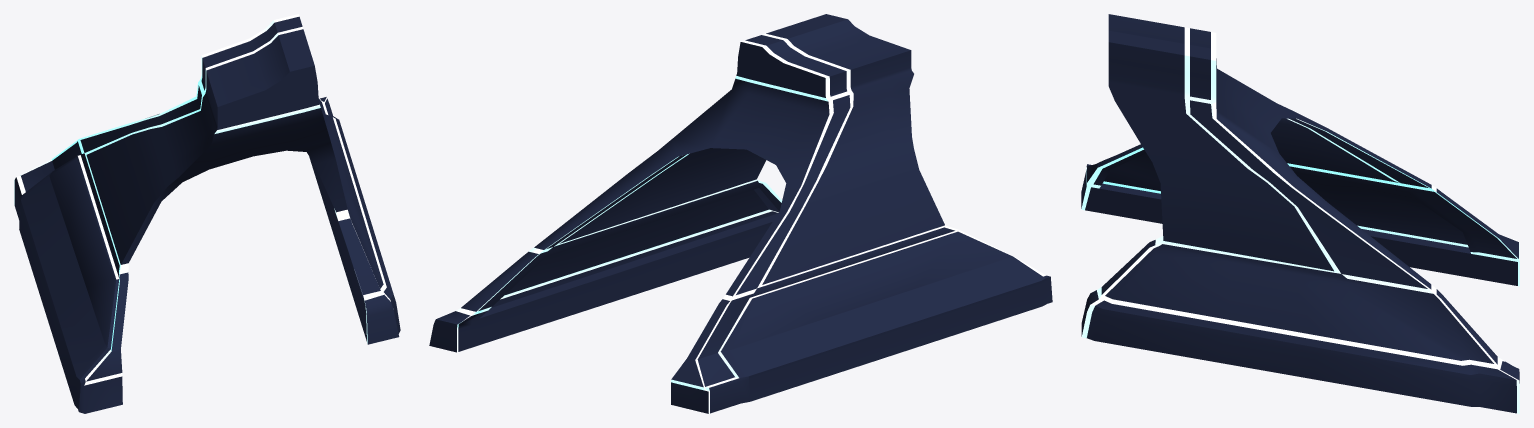
The model's file is Tower_3Ln_Angle.fbx.
The picture shows the model from 3 angles, left to right: view 1: azimuth 30°, elevation 25°; view 2: azimuth 150°, elevation 25°; view 3: azimuth 270°, elevation 25°; orthographic projection. The views are drawn at different scales.
Parts seen in each view (by area): view 1: Tower_3Ln_Angle; view 2: Tower_3Ln_Angle; view 3: Tower_3Ln_Angle.
Boxes of the visible parts, x1,y1,x2,y2 form: Tower_3Ln_Angle: (14,14,400,413); Tower_3Ln_Angle: (429,14,1052,413); Tower_3Ln_Angle: (1081,14,1519,413).
Bounding box in the file's own units: 2997 × 1645 × 2487.
